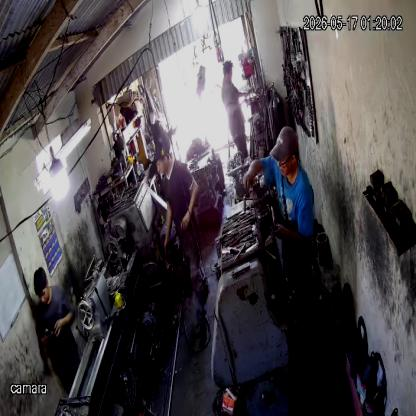lentes: (275, 156, 295, 172)
